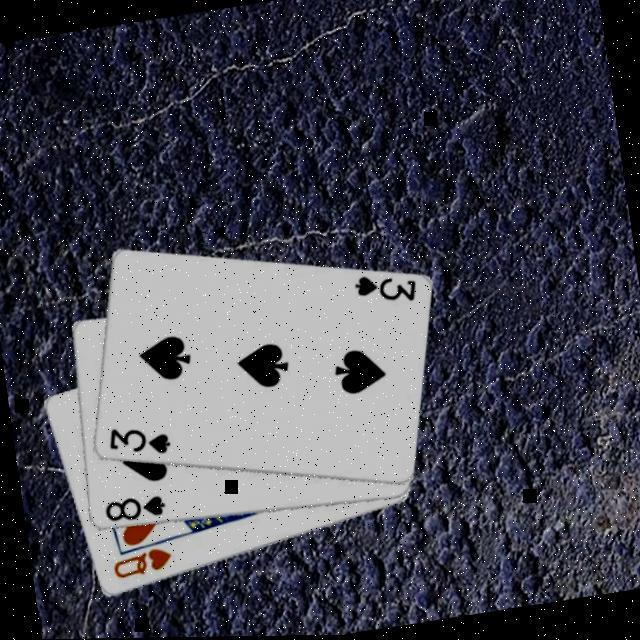3S: (104, 416, 176, 464), (350, 264, 422, 312)
8S: (102, 488, 171, 526)
QH: (109, 540, 178, 582)
